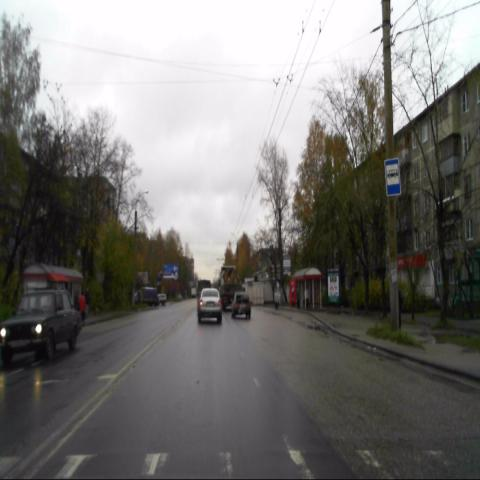5_16: (384, 159, 402, 198)
